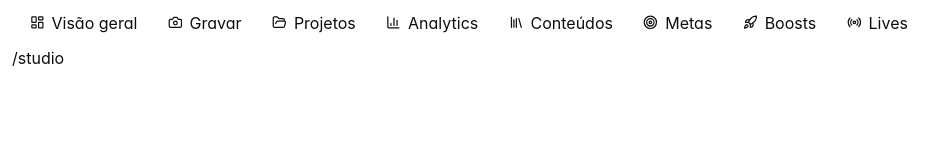
it: galeria desktop de projetos reais › a navegação do Studio oferece Gravar e identifica a rota de captura
Click the button "Gravar": point(205, 23) [154,4,255,42]
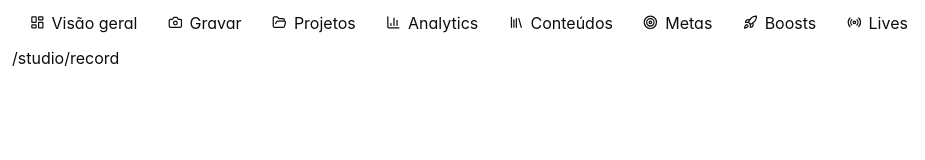
Expected: the text "/studio/record" is shown, [12,48,119,68]
